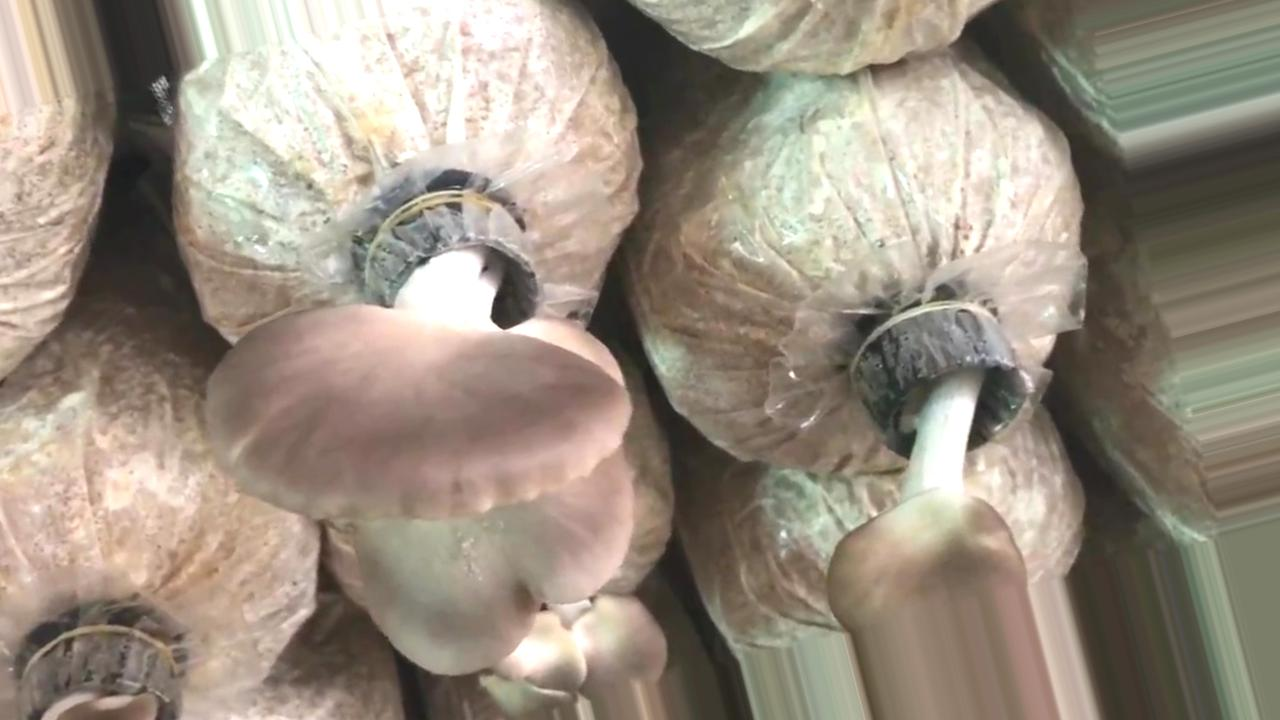nam: (209, 195, 634, 675), (823, 306, 1062, 719), (478, 595, 666, 720)
